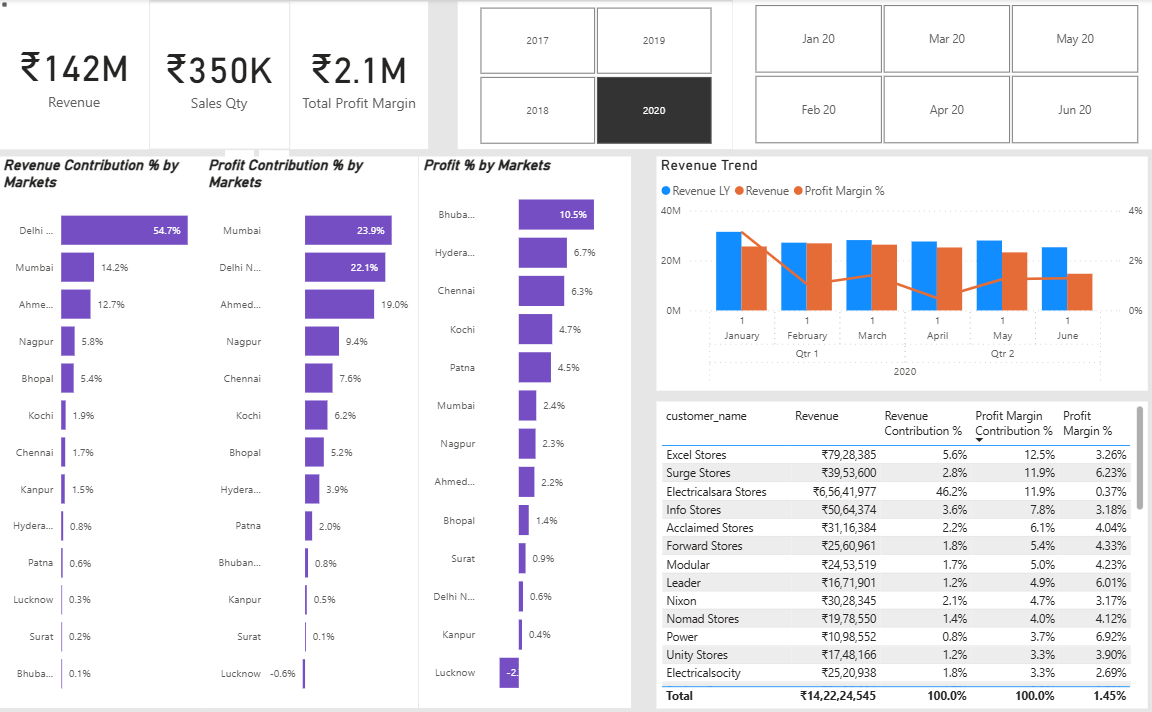

Layout of this report page (visuals, bound fields, positions):
{"tool":"powerbi","page":{"name":"Profit Analysis","canvas":[1350,850],"ordinal":1},"visuals":[{"type":"card","fields":{"Values":["Base Measures.Revenue"]},"box":[0,0,173.7,173.7],"z":0},{"type":"card","fields":{"Values":["Base Measures.Sales Qty"]},"box":[173.7,2.9,162.1,170.8],"z":1000},{"type":"barChart","title":"Profit % by Markets","fields":{"Y":["Base Measures.Profit Margin %"],"Category":["sales markets.markets_name"]},"box":[484.8,182.4,244.6,636.8],"z":2000},{"type":"barChart","title":"Profit Contribution % by Markets","fields":{"Category":["sales markets.markets_name"],"Y":["Base Measures.Profit Margin Contribution %"]},"box":[237.4,182.4,247.5,636.8],"z":3000},{"type":"slicer","fields":{"Values":["sales date.year"]},"box":[529.7,2.9,317,170.8],"z":4000},{"type":"slicer","fields":{"Values":["sales date.cy_date"]},"box":[846.6,0,492.1,173.7],"z":5000},{"type":"tableEx","title":"Top 5 Customers by Revenue","fields":{"Values":["sales customers.custmer_name","Base Measures.Revenue","Base Measures.Revenue Contribution %","Base Measures.Profit Margin Contribution %","Base Measures.Profit Margin %"]},"box":[758.4,464.6,567.3,354.6],"z":6000},{"type":"lineClusteredColumnComboChart","title":"Revenue Trend","fields":{"Category":["sales date.cy_date.Variation.Date Hierarchy.Year","sales date.cy_date.Variation.Date Hierarchy.Quarter","sales date.cy_date.Variation.Date Hierarchy.Month","sales date.cy_date.Variation.Date Hierarchy.Day"],"Y":["Base Measures.Revenue LY","Base Measures.Revenue"],"Y2":["Base Measures.Profit Margin %"]},"box":[758.4,182.4,567.3,270.6],"z":7000},{"type":"card","fields":{"Values":["Base Measures.Total Profit Margin"]},"box":[335.8,2.9,159.2,170.8],"z":8000},{"type":"barChart","title":"Revenue Contribution % by Markets","fields":{"Category":["sales markets.markets_name"],"Y":["Base Measures.Revenue Contribution %"]},"box":[0,182.4,237.4,636.8],"z":9000},{"type":"actionButton","box":[0,0,13,13],"z":10000}]}

Visuals, with their boxes in screenshot pixels (x1, y1, x2, y2), scaled from the page's 1350x850 canvas onto the 1152x712 screenshot:
card - Base Measures.Revenue: {"left": 0, "top": 0, "right": 148, "bottom": 145}
card - Base Measures.Sales Qty: {"left": 148, "top": 2, "right": 287, "bottom": 145}
"Profit % by Markets" barChart: {"left": 414, "top": 153, "right": 622, "bottom": 686}
"Profit Contribution % by Markets" barChart: {"left": 203, "top": 153, "right": 414, "bottom": 686}
slicer - sales date.year: {"left": 452, "top": 2, "right": 723, "bottom": 145}
slicer - sales date.cy_date: {"left": 722, "top": 0, "right": 1142, "bottom": 145}
"Top 5 Customers by Revenue" tableEx: {"left": 647, "top": 389, "right": 1131, "bottom": 686}
"Revenue Trend" lineClusteredColumnComboChart: {"left": 647, "top": 153, "right": 1131, "bottom": 379}
card - Base Measures.Total Profit Margin: {"left": 287, "top": 2, "right": 422, "bottom": 145}
"Revenue Contribution % by Markets" barChart: {"left": 0, "top": 153, "right": 203, "bottom": 686}
actionButton: {"left": 0, "top": 0, "right": 11, "bottom": 11}
